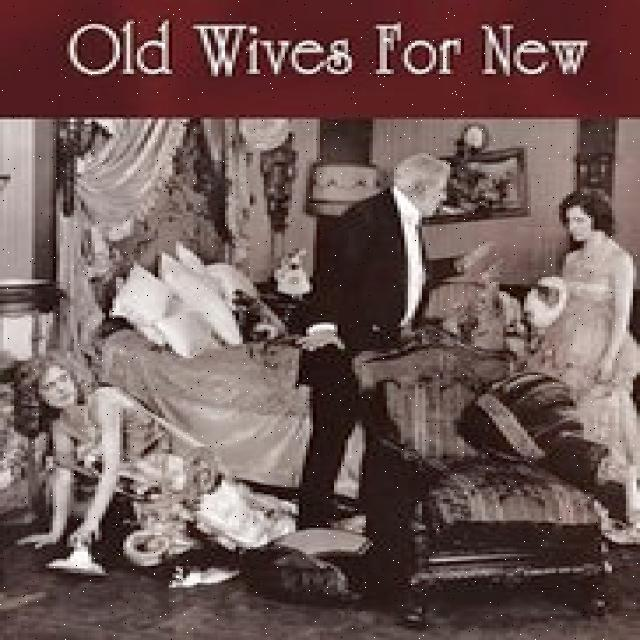movie-judul: (2, 1, 637, 118)
picture: (3, 121, 640, 640)
